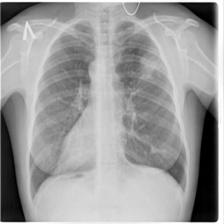tuberculosis: (23, 16, 191, 195)
